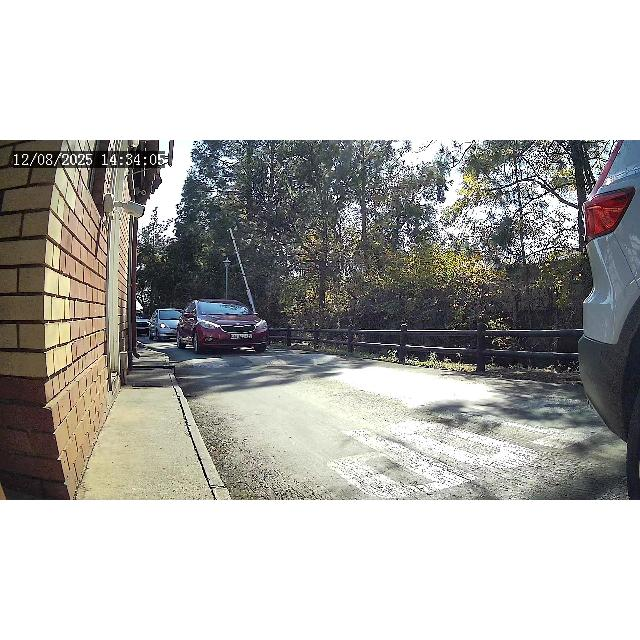car: (176, 300, 270, 352), (148, 308, 178, 342)
plate: (228, 334, 252, 341)
